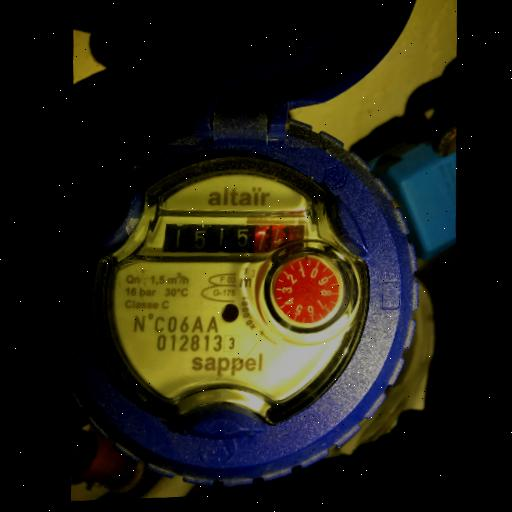1: (169, 222, 188, 253), (211, 223, 230, 253)
3: (286, 222, 305, 243)
4: (268, 223, 287, 254)
5: (188, 222, 211, 254), (232, 222, 253, 254)
7: (253, 223, 271, 254)
border_water_meter_number: (134, 200, 335, 271)
